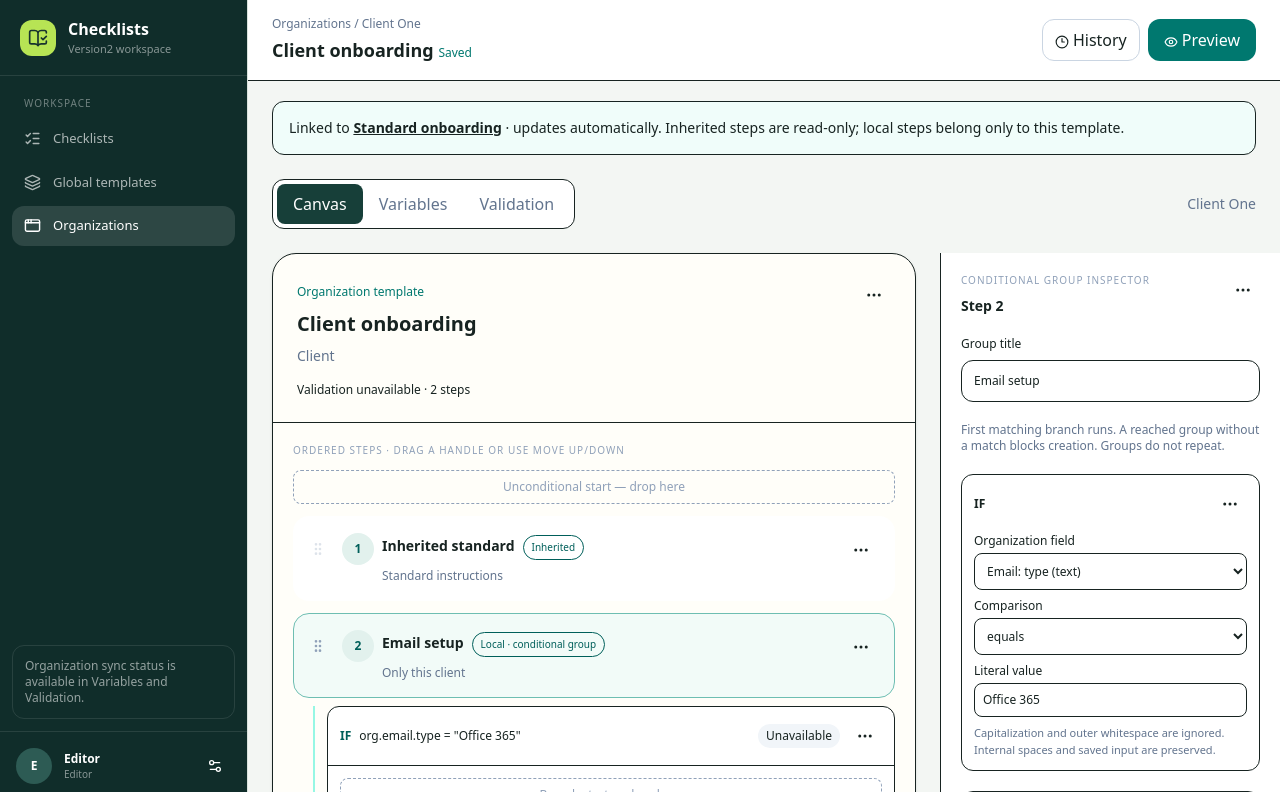
new template authoring › keeps failed rule drafts and blocks navigation instead of discarding them
This screenshot has width=1280, height=792.
Replace the text in the field named "Condition value" with "Unsaved input " at coordinates (1110, 700), box x1=974 y1=683 x2=1247 y2=717
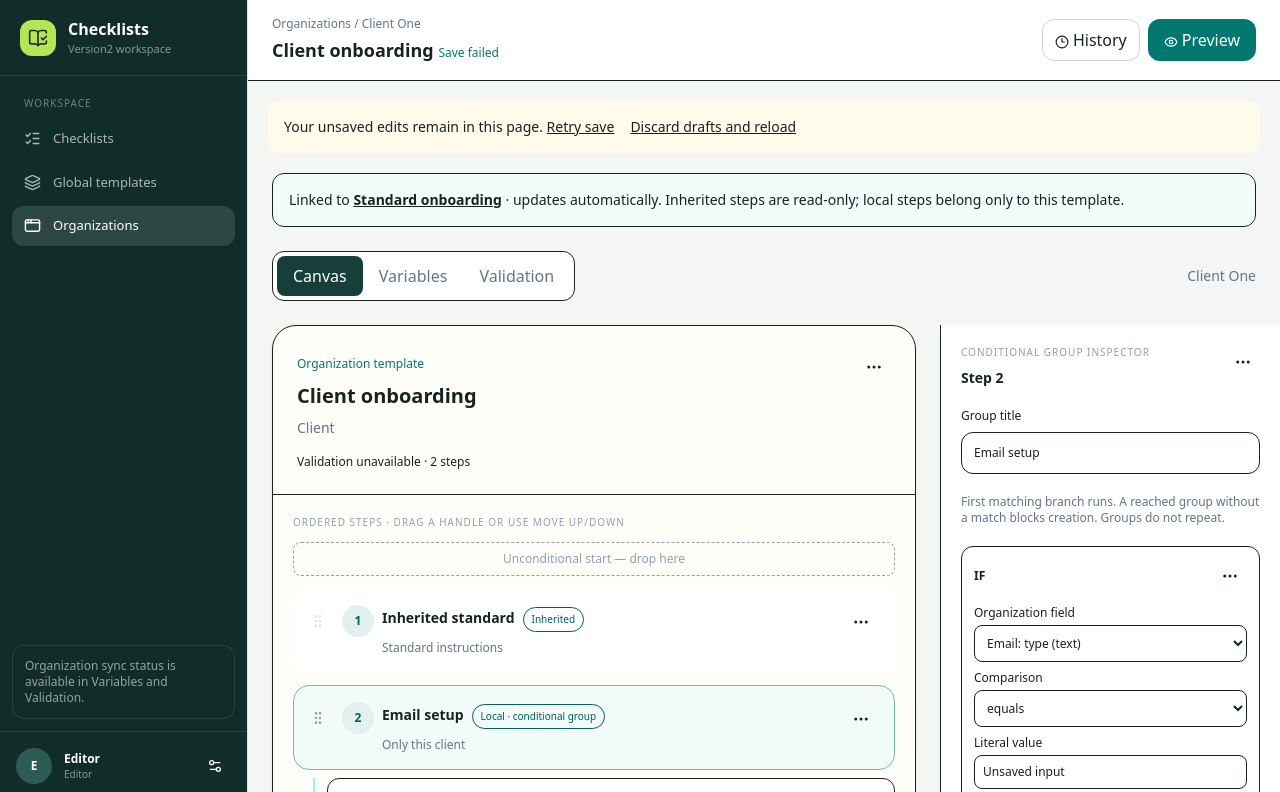
expect the text "Your unsaved edits remain in this page. Retry save Discard drafts and reload" is shown: met, box x1=268 y1=101 x2=1260 y2=153
expect the text "Save failed" is shown: met, box x1=438 y1=44 x2=499 y2=61
